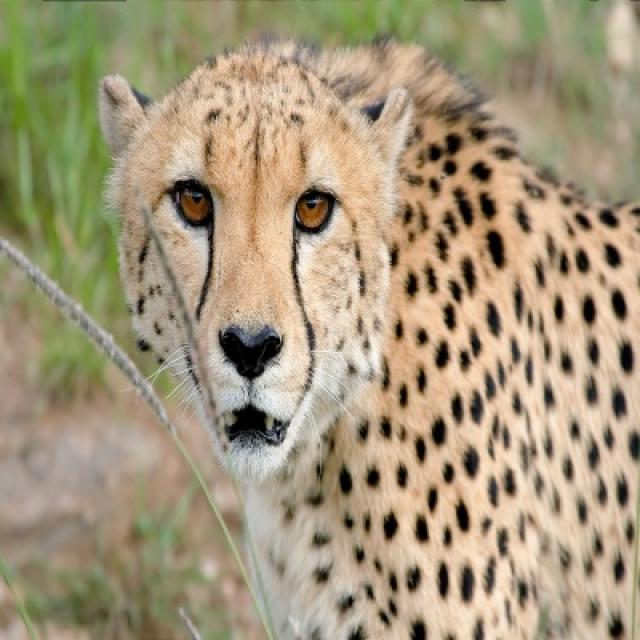Cheetah: (96, 37, 638, 638)
